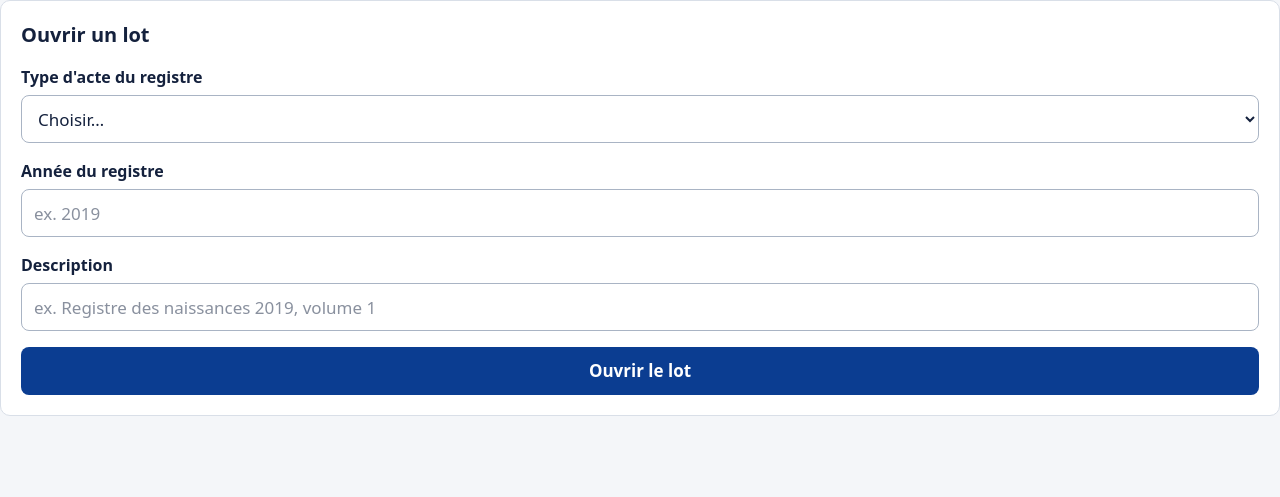
Test: type (types actifs, numérotés), année, description ; le refus est affiché sur le bon champ
The width and height of the screenshot is (1280, 497).
Select "22 · Extrait d'acte de naissance" in the dropdown labelled "Type d'acte du registre": (640, 119) top-left (21, 95), bottom-right (1259, 143)
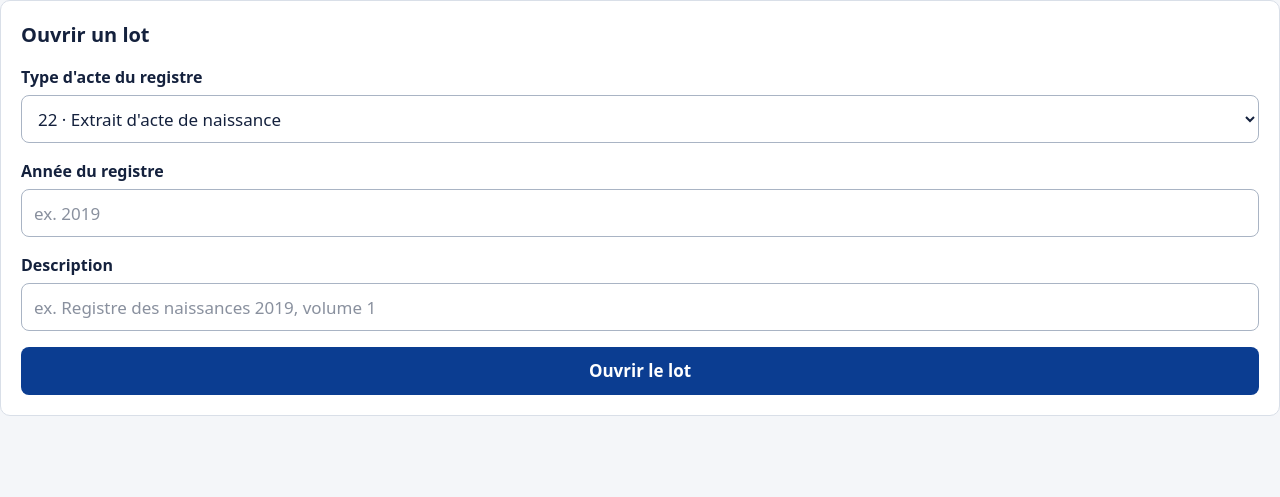
In the field labelled "Année du registre": (640, 213) top-left (21, 189), bottom-right (1259, 237), type "2031"
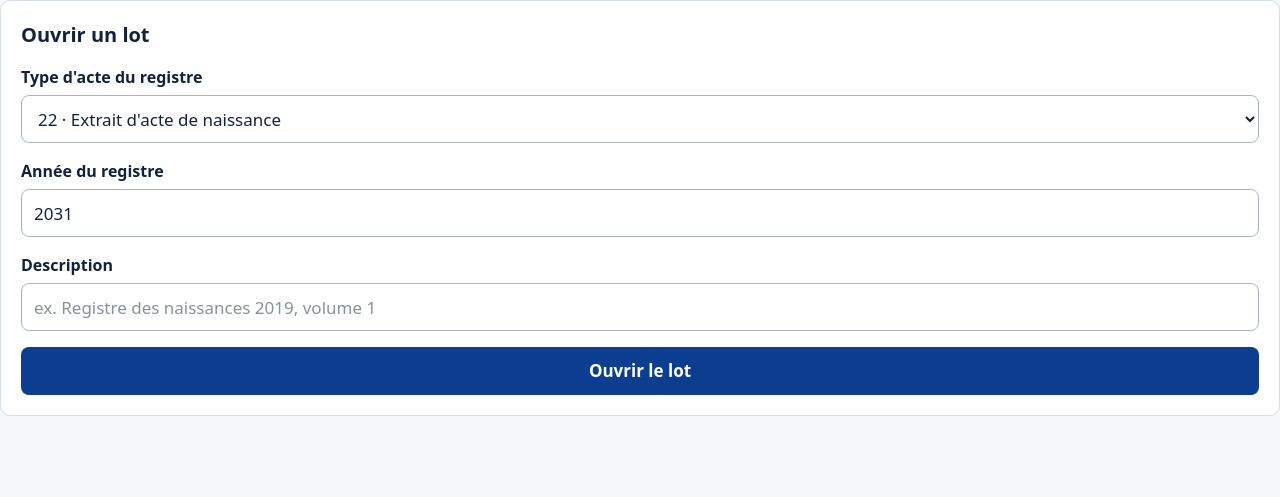
In the field labelled "Description": (640, 307) top-left (21, 283), bottom-right (1259, 331), type "Registre des naissances 2031"
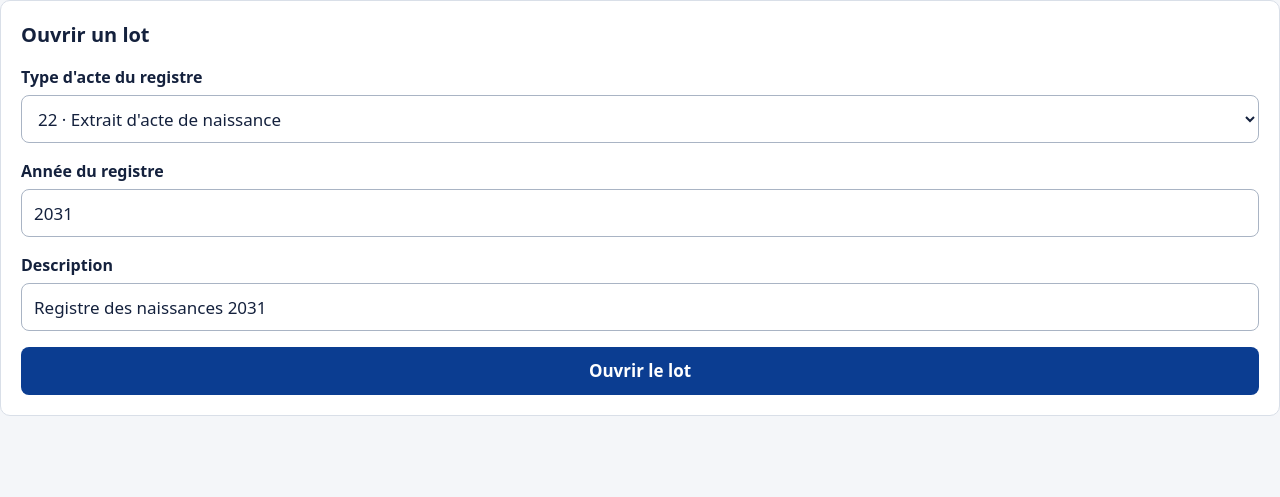
Click the button "Ouvrir le lot": (640, 371) top-left (21, 347), bottom-right (1259, 395)
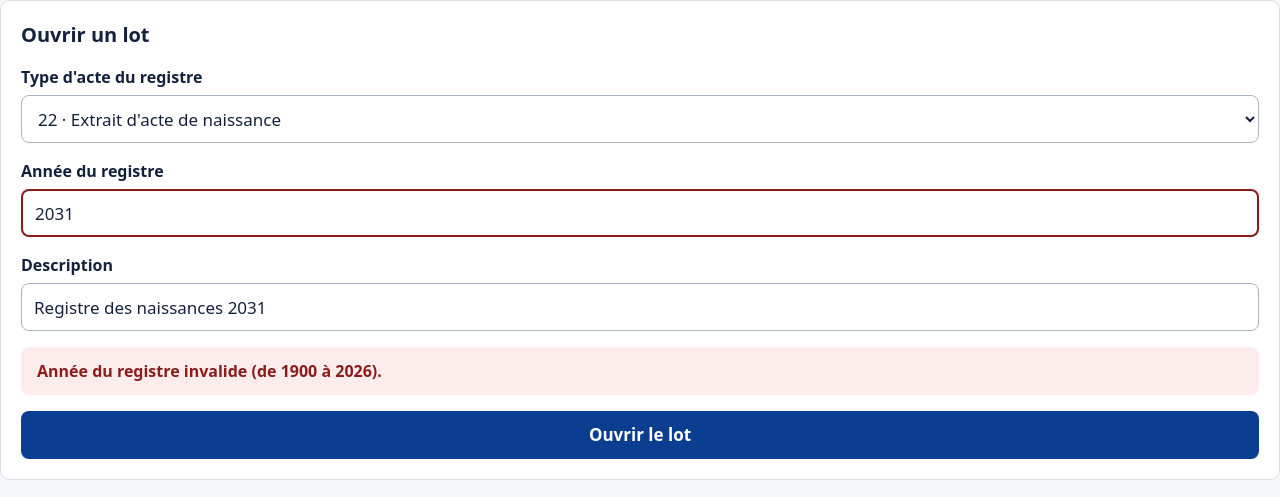
Check: the message reads "Année du registre invalide (de 1900 à 2026).", box top-left (37, 360), bottom-right (382, 382)
